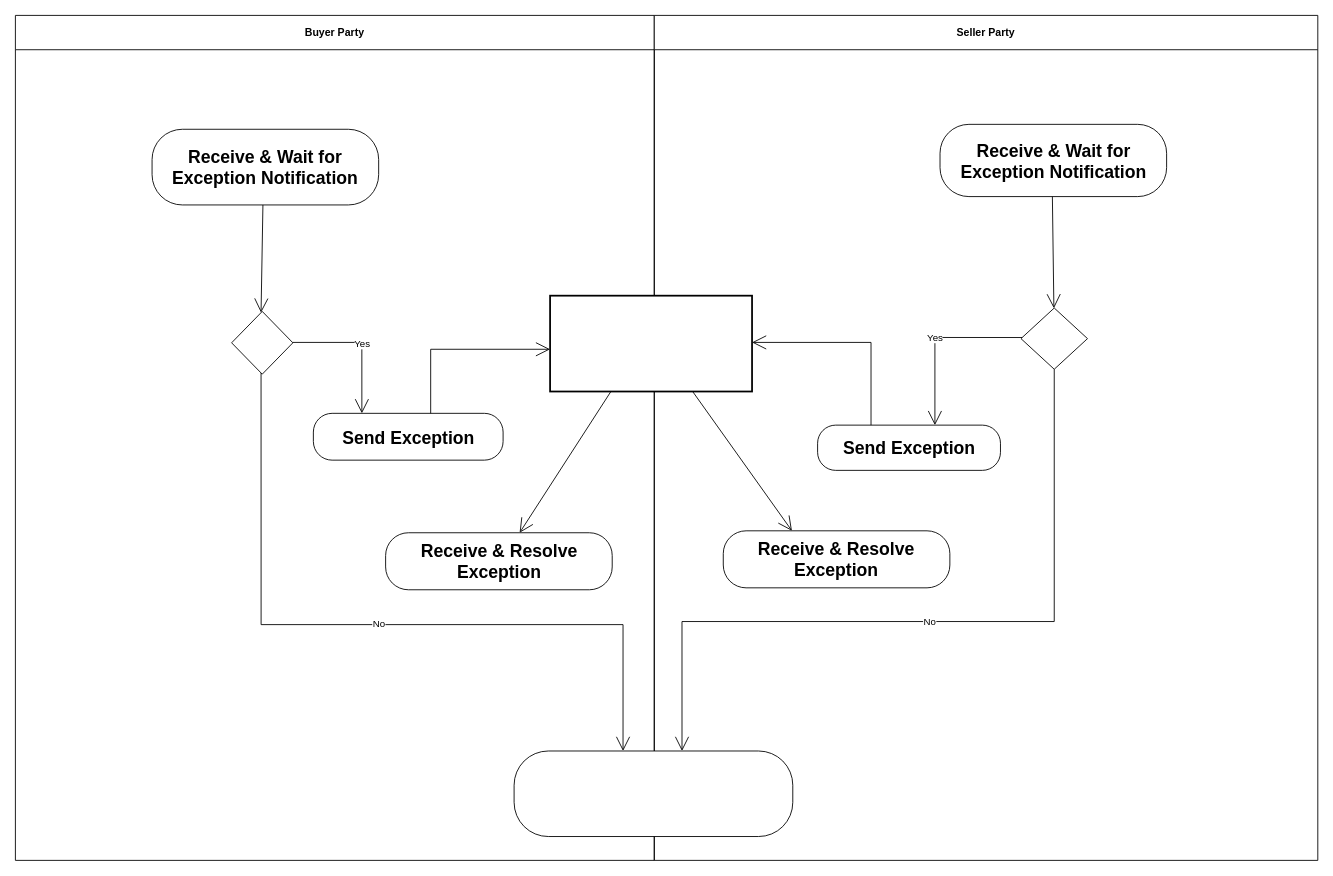
Some shapes in this 1333 by 876 pixel diagram are drawn without their labels. The shapes that lost their labels are listed below. From the top down, each one's centre as x and y in pixels, then its label:
At point (650, 343): "Exception Notification (positive)".
At point (653, 793): "Ordering".
